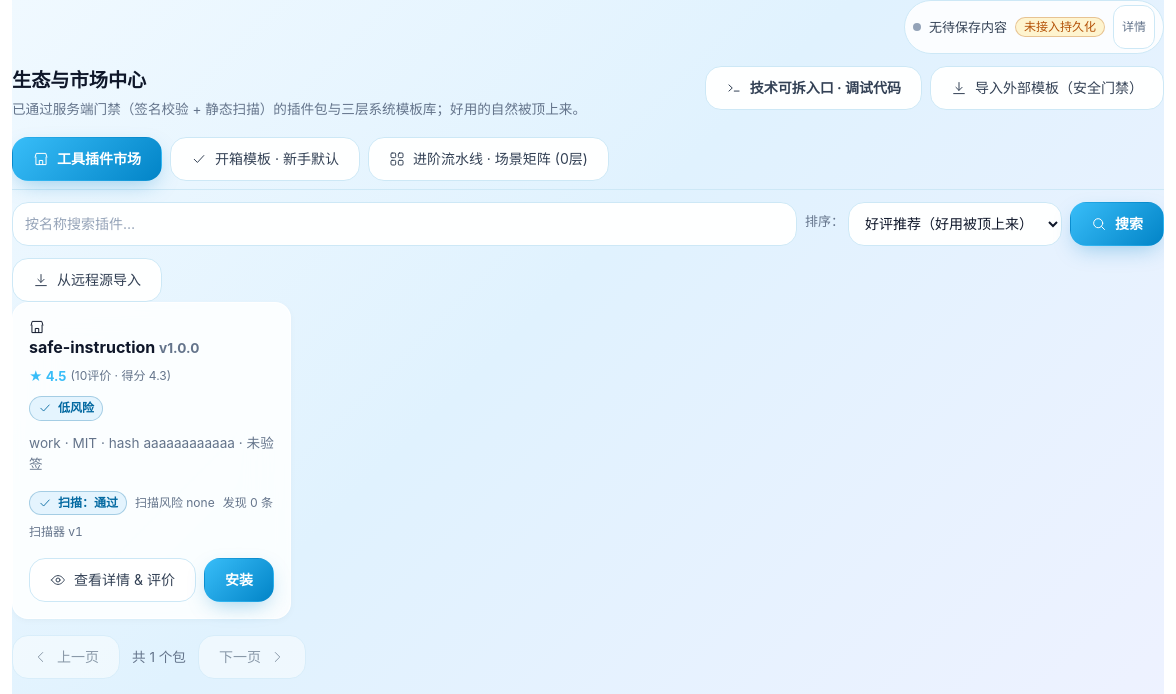
Test case: 远程源导入入口 › 选连接后调导入端点、刷新列表并如实展示导入条数
Click the button with test id "market-source-open" at (87, 280), box [12, 258, 162, 302]
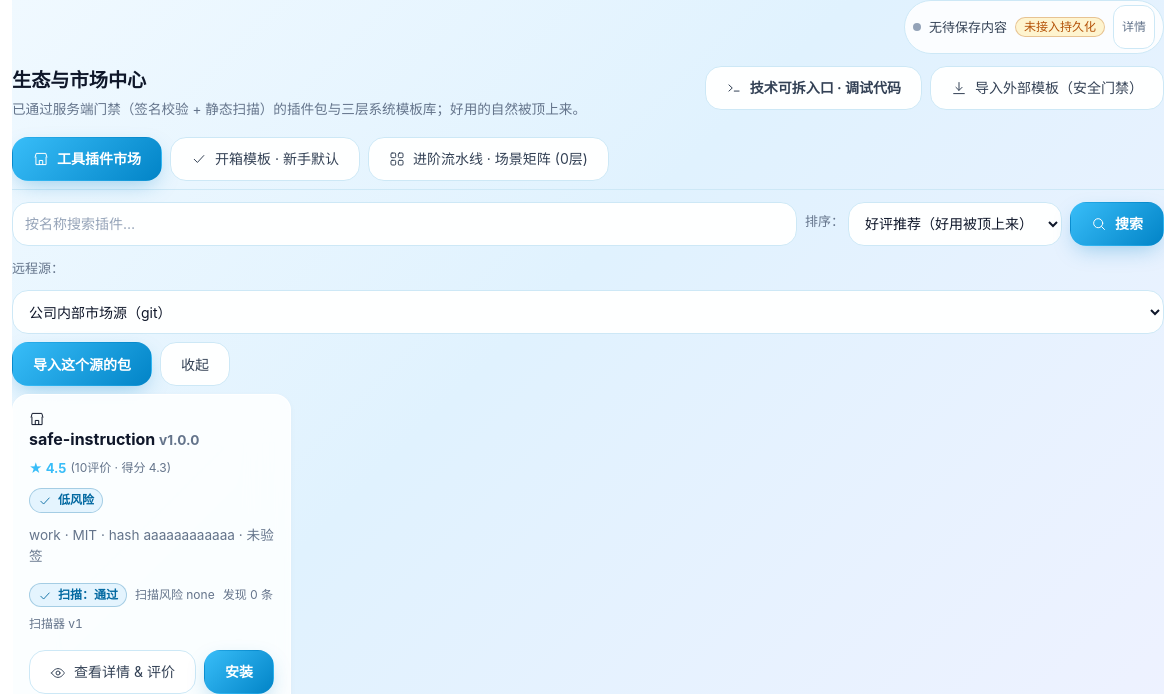
Now the dropdown with test id "market-source-select" is shown, box [12, 290, 1164, 334]
Click the button with test id "market-source-import" at (82, 364), box [12, 342, 152, 386]
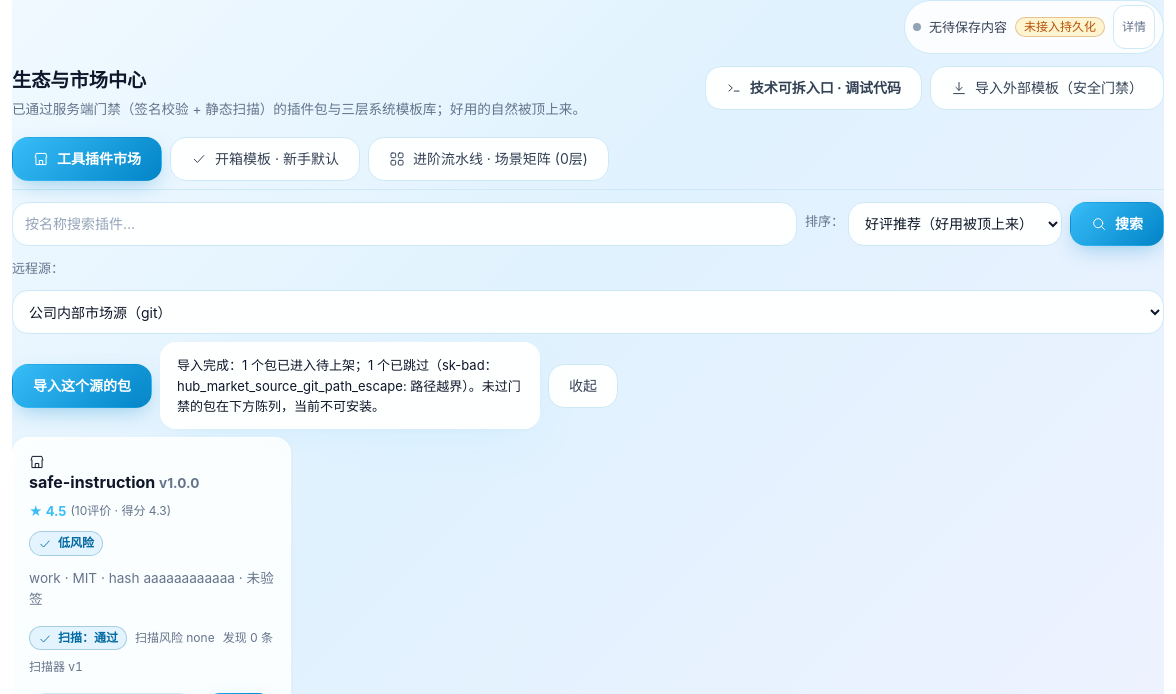
Now the message with test id "market-source-note" shows "导入完成：1 个包", box [177, 358, 521, 414]
Now the message with test id "market-source-note" shows "hub_market_source_git_path_escape", box [177, 358, 521, 414]
